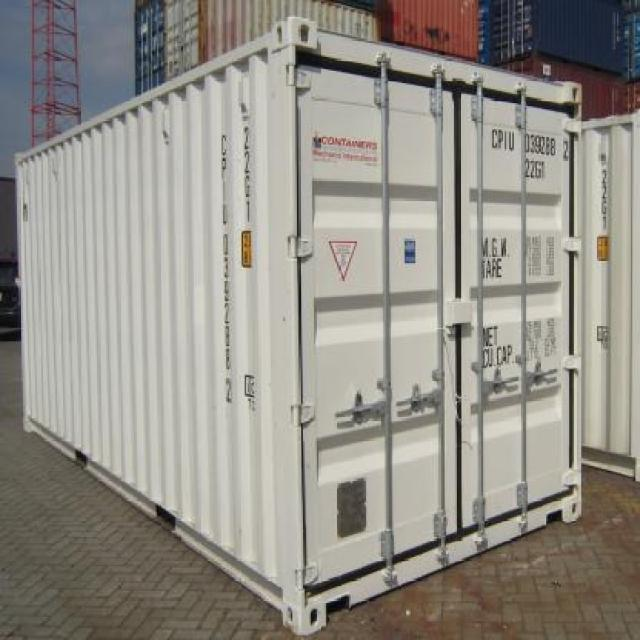ISO: (522, 157, 548, 178)
container_number: (490, 129, 570, 155)
